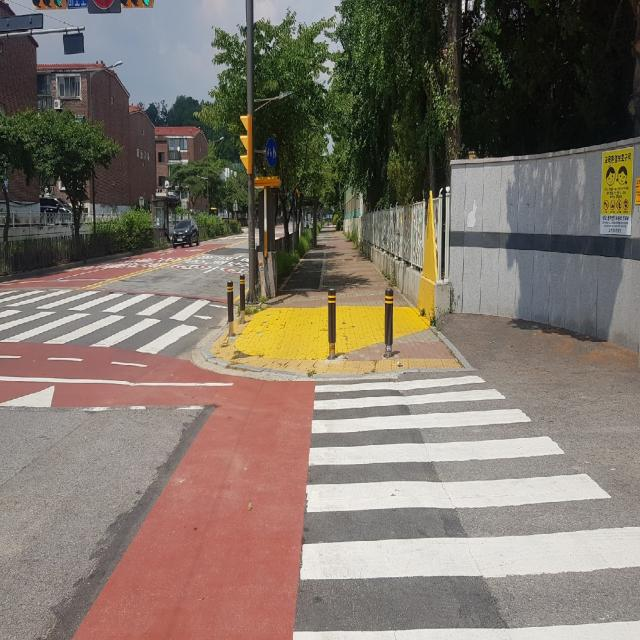횡단보도: (288, 373, 640, 639), (0, 272, 217, 356)
